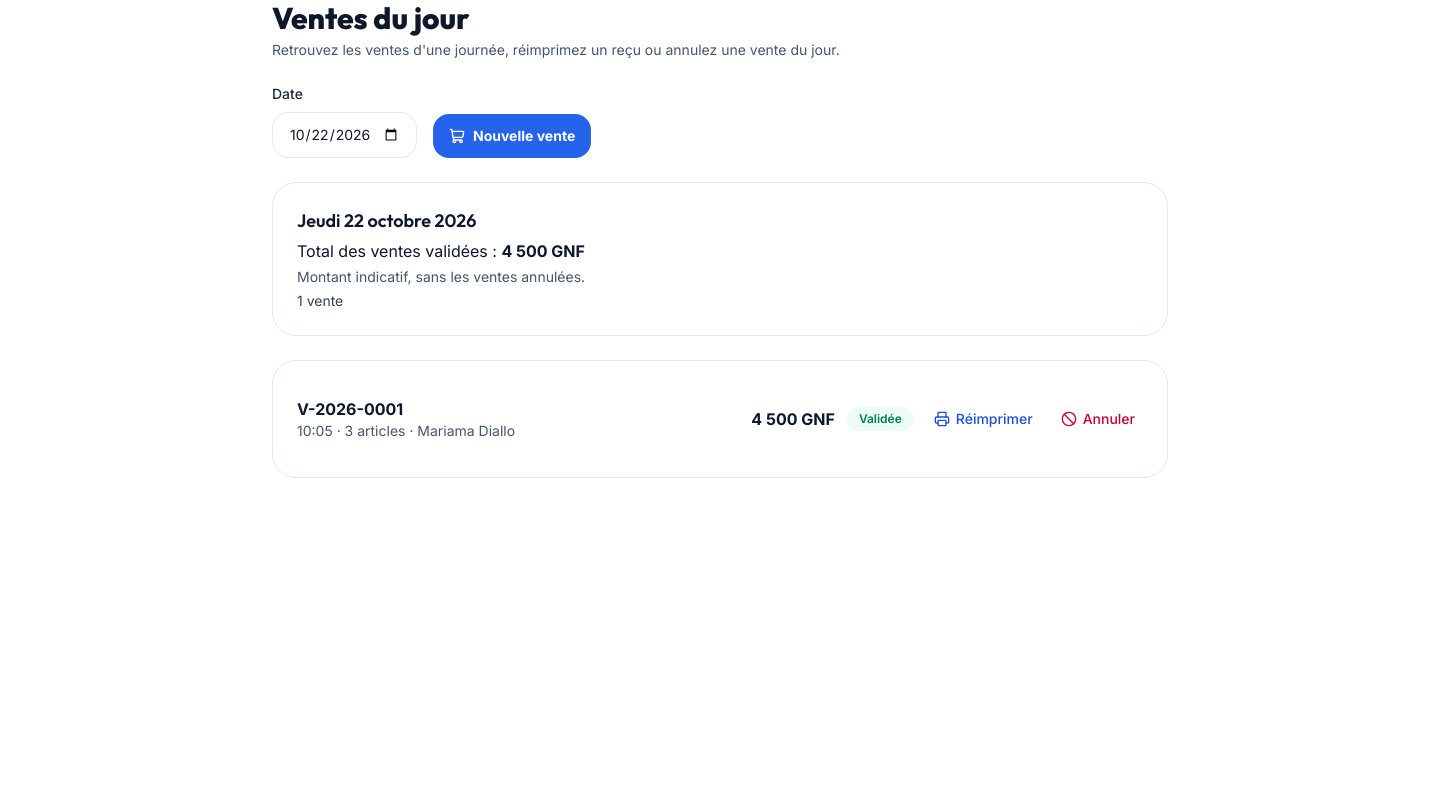
Ventes du jour › refuse un motif trop court
Click the button with aria-label "Annuler la vente V-2026-0001" at [1098, 419], box left=1053, top=401, right=1143, bottom=437
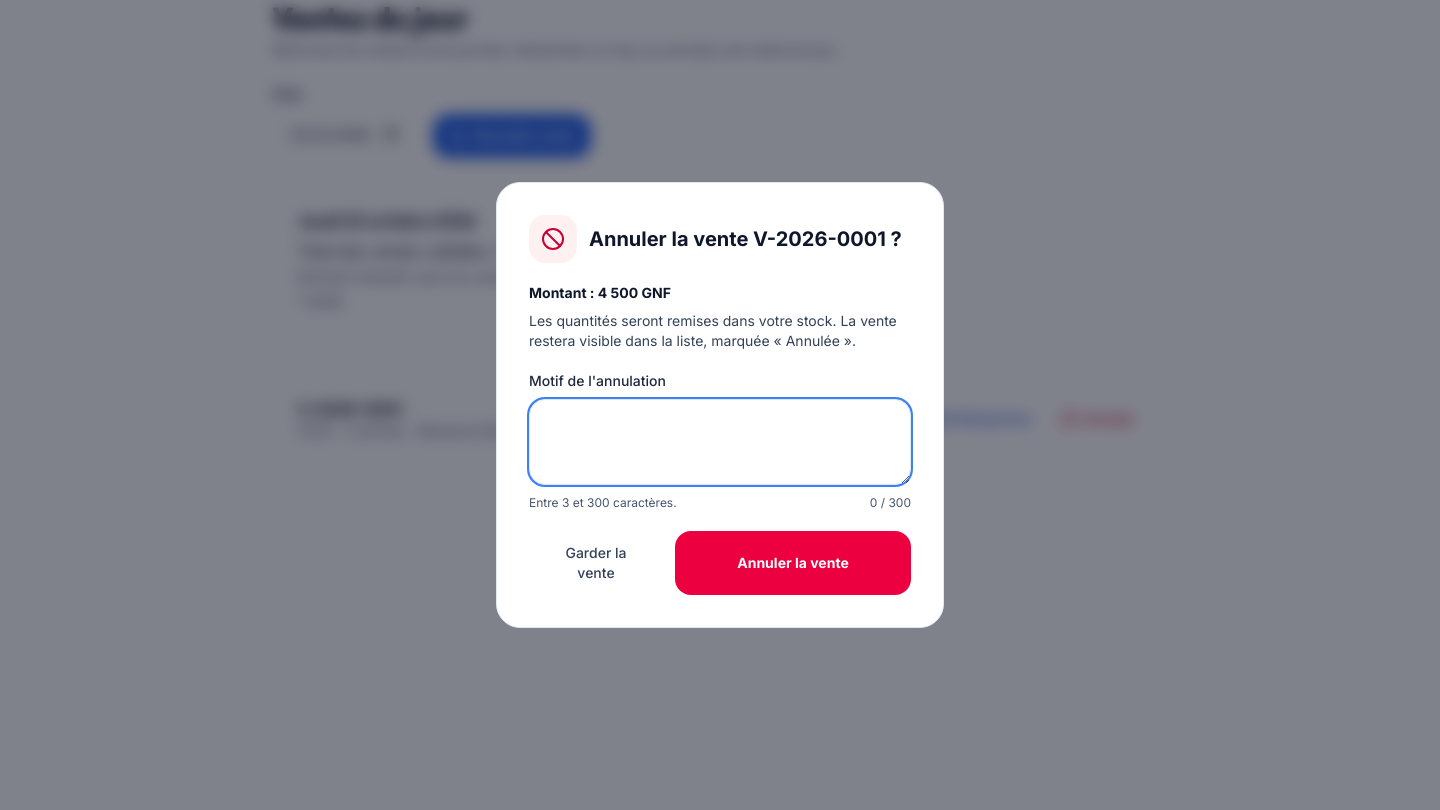
Type "ab" into the text box labelled "Motif de l'annulation" at [720, 442], box left=529, top=399, right=911, bottom=485
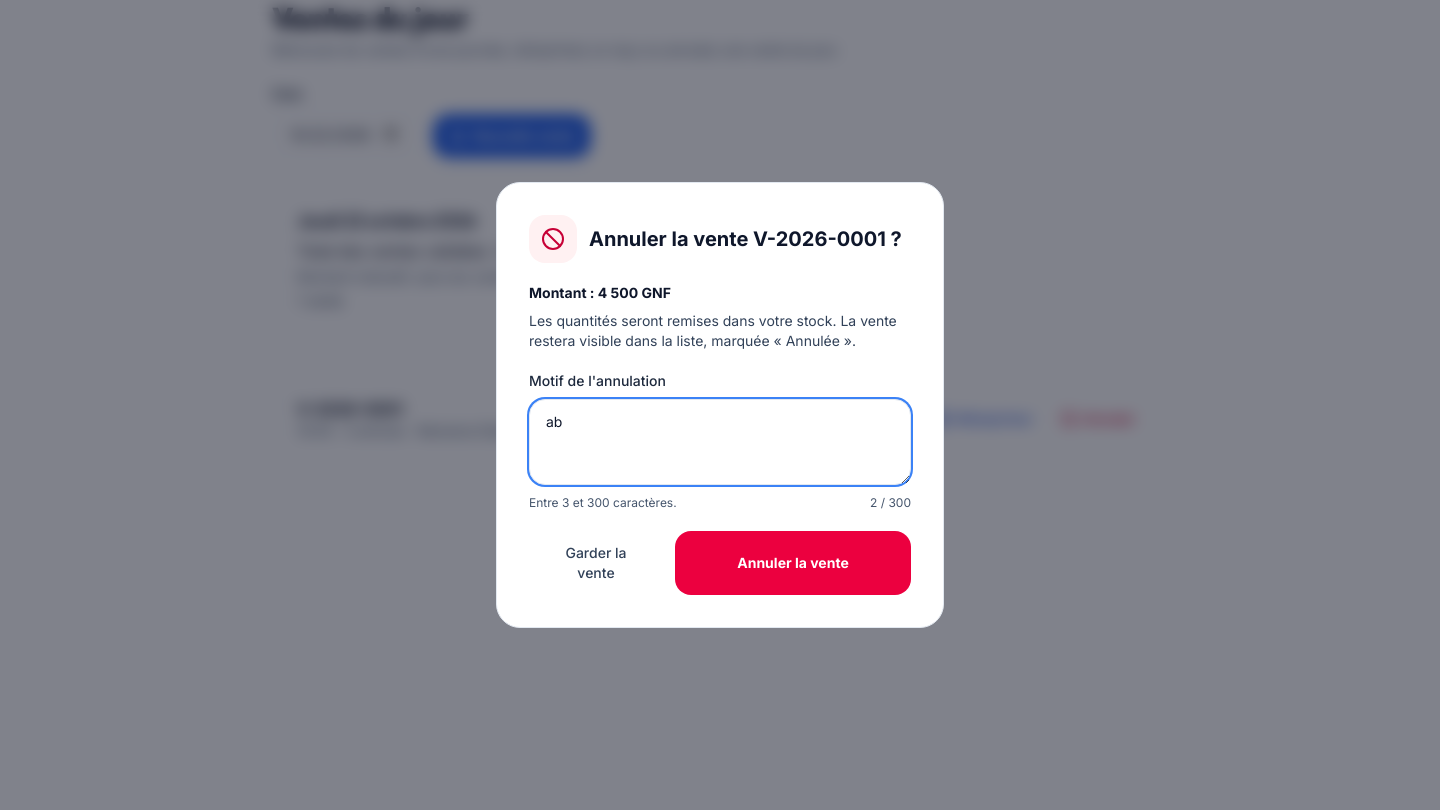
Click the button "Annuler la vente" at [793, 563], box left=675, top=531, right=911, bottom=595
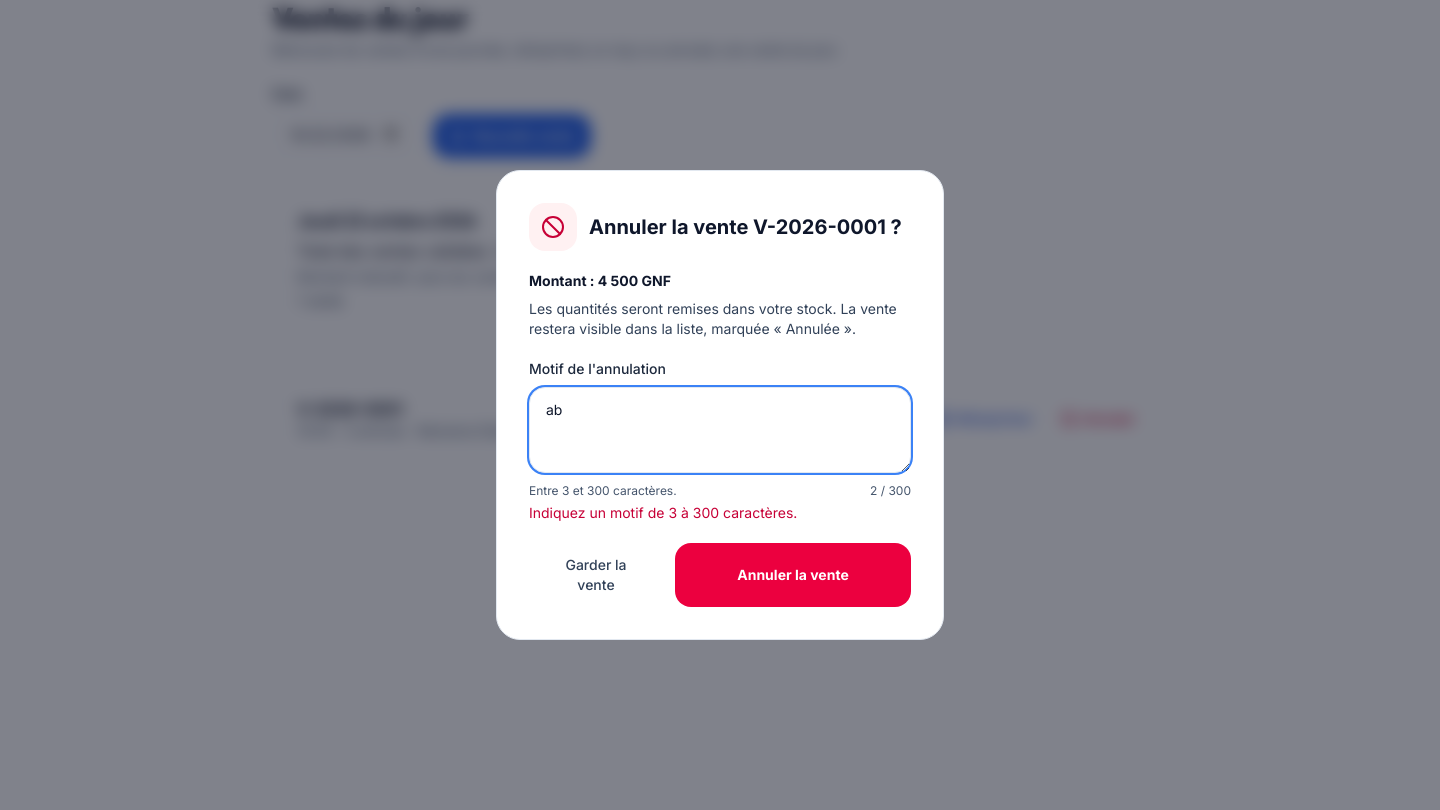
Result: the text "Indiquez un motif de 3 à 300 caractères." is shown at left=529, top=504, right=797, bottom=521
